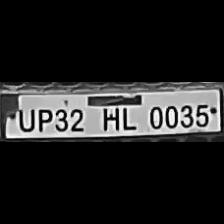0: (144, 103, 164, 129), (163, 102, 178, 127)
2: (66, 104, 86, 132)
3: (192, 101, 210, 126), (52, 104, 68, 132), (178, 103, 195, 127)
H: (96, 104, 122, 130)
L: (118, 99, 140, 130)
P: (34, 106, 52, 132)
U: (16, 106, 34, 132)
